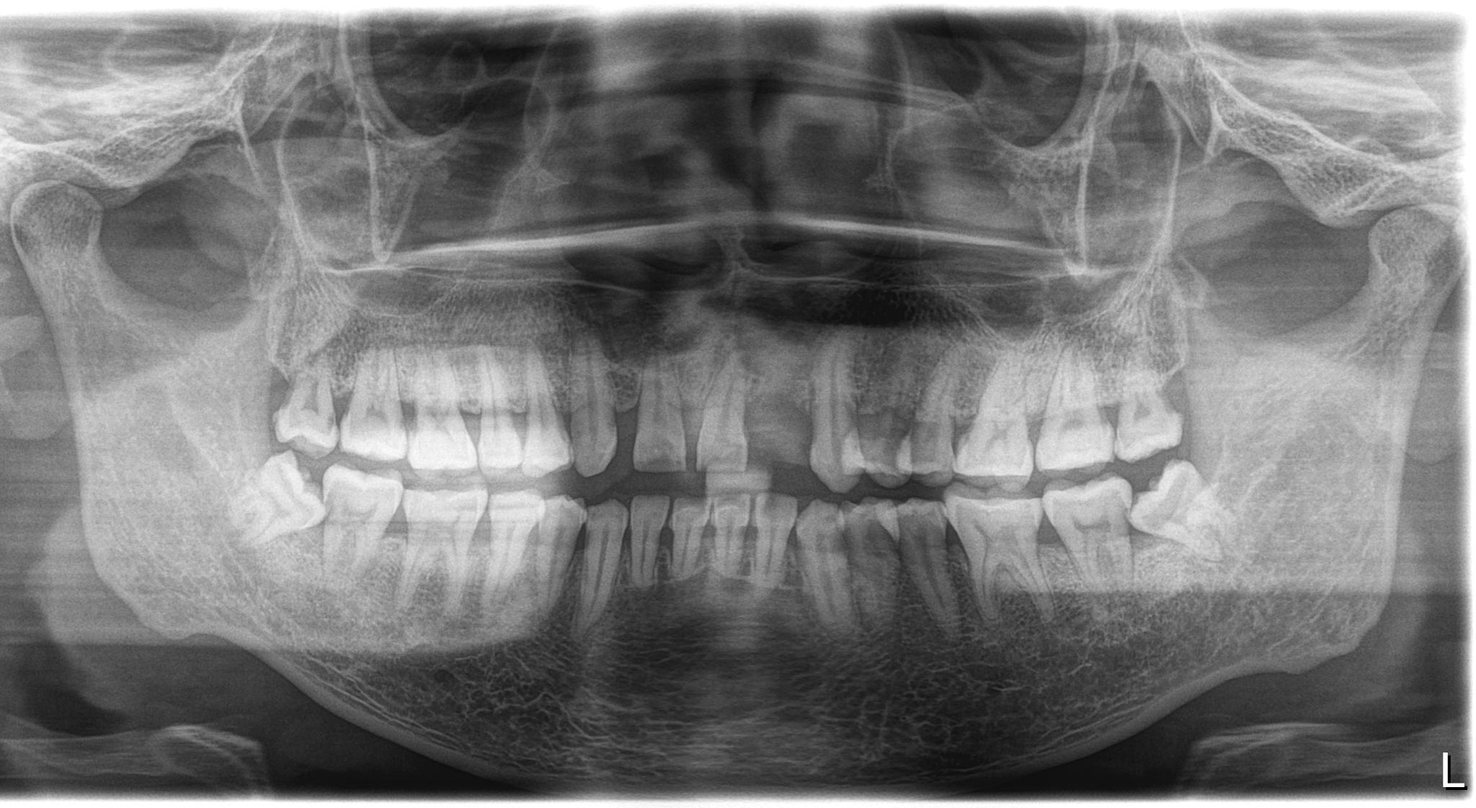Impacted Third Molar: (1135, 475, 1240, 559), (232, 459, 325, 543)
Missing Tooth: (755, 347, 819, 477), (607, 369, 642, 469)
